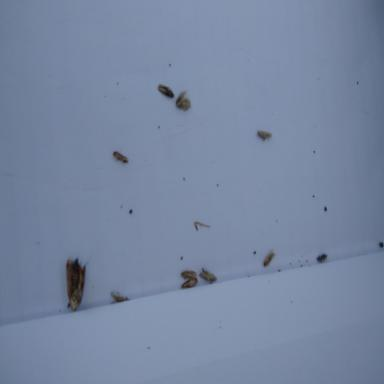abw: (66, 258, 86, 312)
pbw: (175, 90, 191, 110), (199, 268, 217, 281), (158, 84, 174, 98), (110, 293, 130, 304), (181, 278, 198, 289), (113, 151, 128, 163), (264, 251, 274, 267), (257, 131, 272, 141), (181, 270, 197, 278)
